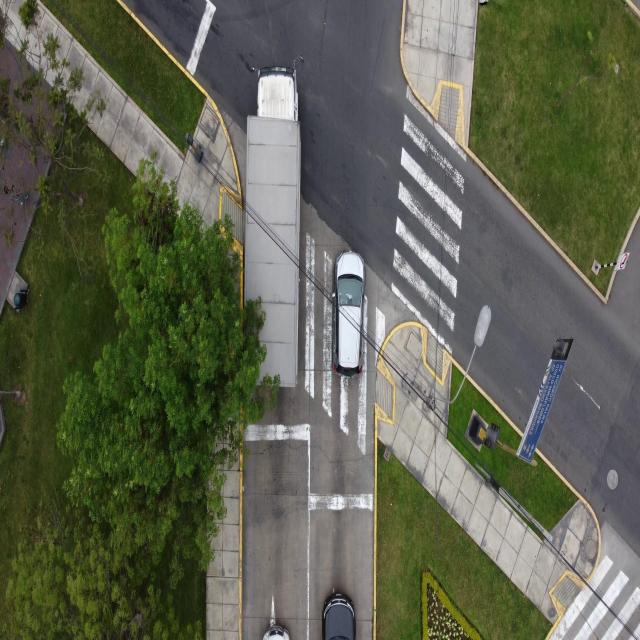Car: (331, 249, 366, 379)
Truck: (242, 63, 300, 387)
